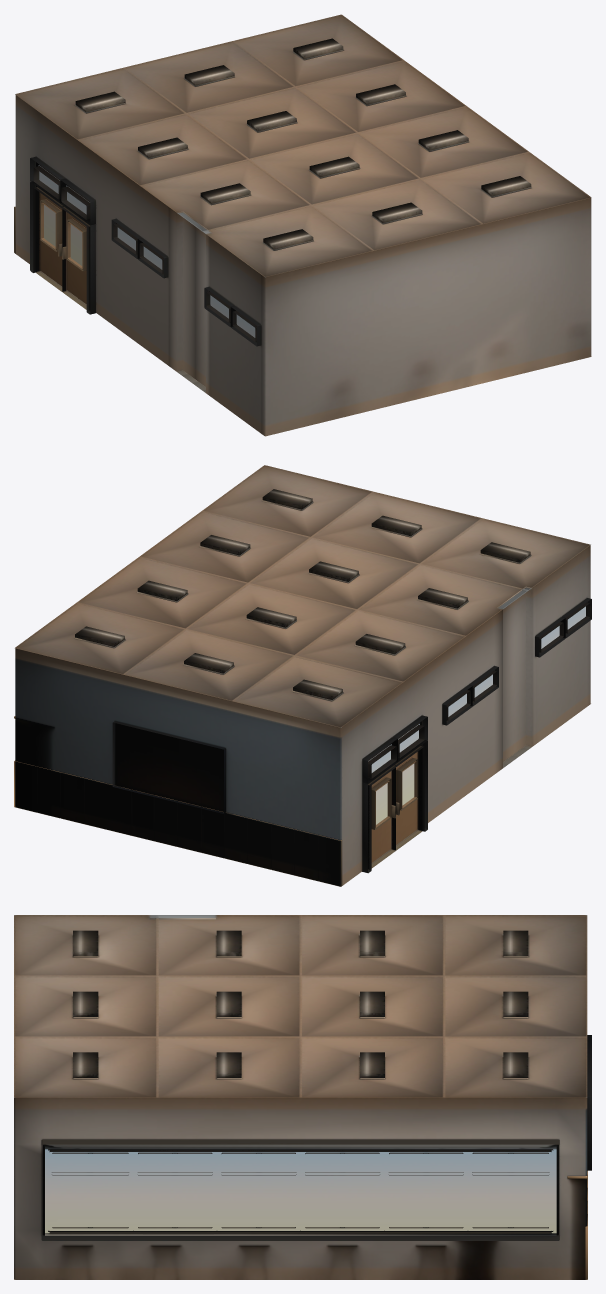
The model's file is classroom_default.glb.
3 views of the same model, one above another, from view 1: azimuth 30°, elevation 25°; view 2: azimuth 150°, elevation 25°; view 3: azimuth 270°, elevation 25° (orthographic). The views are drawn at different scales.
Parts seen in each view (by area): view 1: Classroom; view 2: Classroom; view 3: Classroom, glass.
Boxes of the visible parts, x1=… form: Classroom: x1=14, y1=14, x2=591, y2=436; Classroom: x1=14, y1=465, x2=591, y2=886; Classroom: x1=14, y1=915, x2=591, y2=1279; glass: x1=45, y1=1149, x2=556, y2=1233.
Bounding box in the file's own units: 9.38 × 4.28 × 11.99.
Materials: 2 (1 with a texture image).
